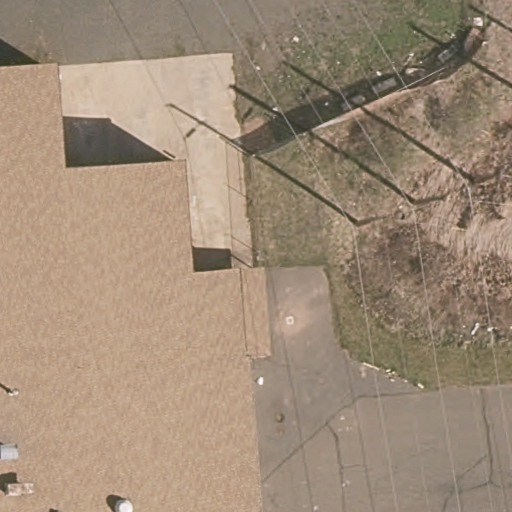DT: (348, 202, 425, 232), (407, 185, 464, 212), (467, 162, 510, 194)
